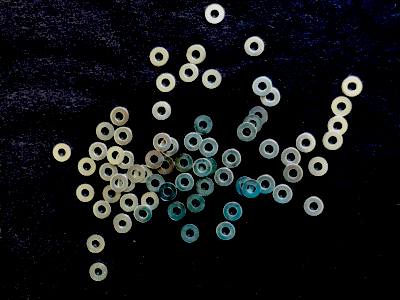circle: (302, 197, 326, 219), (341, 76, 363, 99), (204, 3, 226, 25), (88, 262, 111, 283), (271, 185, 294, 206), (255, 175, 277, 196), (185, 44, 207, 65), (201, 70, 222, 92), (243, 36, 265, 57), (330, 96, 352, 117), (85, 235, 108, 255), (154, 73, 177, 93), (112, 214, 133, 235), (167, 201, 188, 222), (186, 194, 207, 215), (195, 177, 216, 198), (308, 157, 329, 178), (281, 147, 302, 168), (323, 130, 344, 151), (328, 116, 349, 137), (184, 131, 204, 153), (296, 134, 318, 154), (251, 76, 273, 96), (192, 115, 214, 135), (141, 192, 161, 213), (181, 224, 201, 245), (175, 173, 196, 193), (174, 153, 194, 174), (216, 222, 237, 242), (223, 203, 244, 223), (222, 149, 243, 169), (259, 140, 280, 160), (237, 123, 258, 143), (260, 87, 281, 107), (151, 101, 172, 121), (179, 63, 199, 84), (75, 184, 95, 204), (120, 193, 140, 213), (160, 138, 180, 158), (199, 138, 219, 158), (249, 106, 269, 126), (149, 47, 169, 67), (283, 165, 304, 184), (93, 201, 113, 220), (135, 206, 155, 225), (110, 174, 130, 193), (146, 175, 166, 194), (127, 164, 146, 184), (77, 158, 97, 177), (115, 151, 135, 170), (113, 126, 133, 145), (96, 122, 116, 141), (110, 107, 130, 126), (145, 149, 164, 169), (156, 156, 175, 176), (153, 133, 173, 152), (199, 157, 218, 177), (215, 168, 234, 188), (235, 177, 254, 197), (244, 115, 264, 134), (113, 214, 131, 235), (119, 173, 137, 194), (159, 183, 178, 202), (134, 165, 153, 184), (52, 144, 71, 163), (242, 180, 261, 199), (103, 185, 121, 205), (89, 143, 108, 161), (106, 147, 125, 165), (100, 163, 118, 181), (194, 160, 212, 178)
